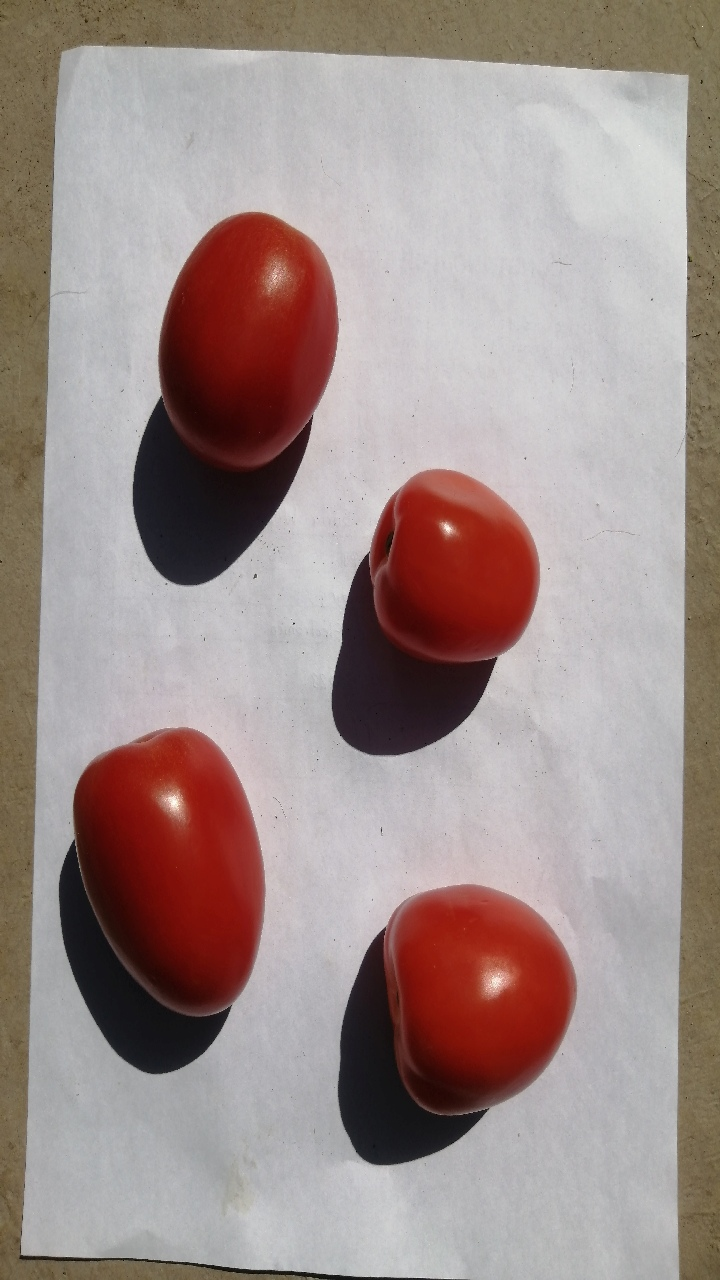tomateRojo: (52, 700, 288, 1035), (131, 185, 360, 488), (361, 872, 583, 1145), (343, 445, 552, 694)
